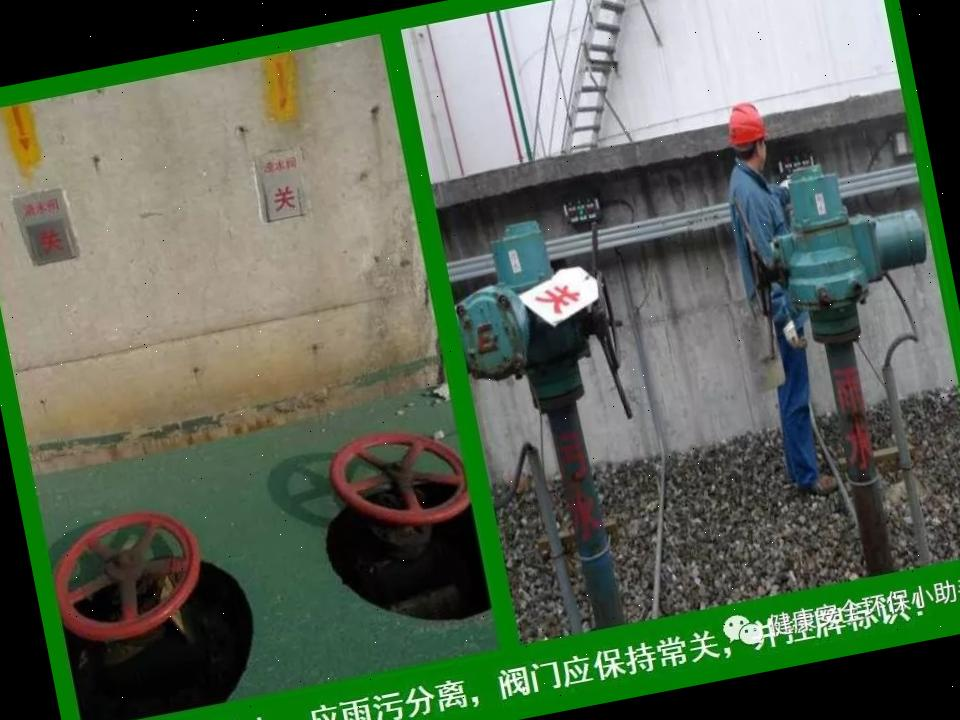helmet: (720, 98, 772, 148)
wear: (722, 160, 812, 320)
